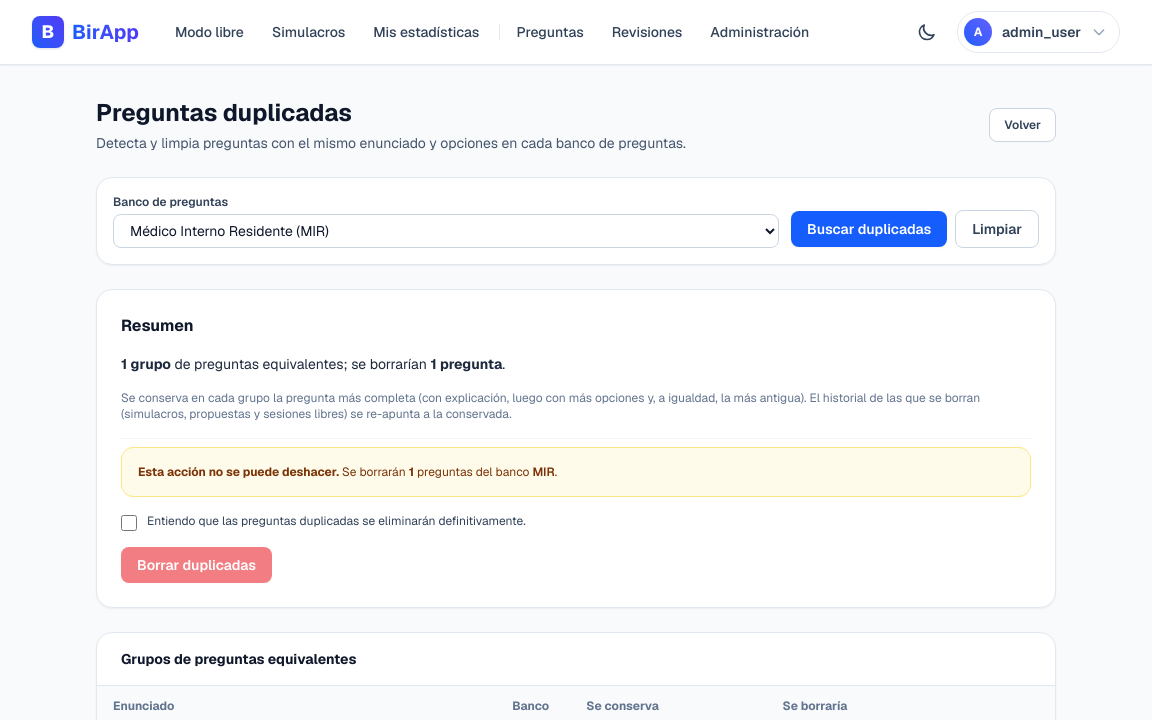
Scenario: QuestionDuplicatesPage (/questions/duplicates) › enables purge button on confirmation and purges duplicates
Click the checkbox labelled "Entiendo que las preguntas duplicadas se eliminarán definitivamente" at (129,523), box [121, 515, 137, 531]
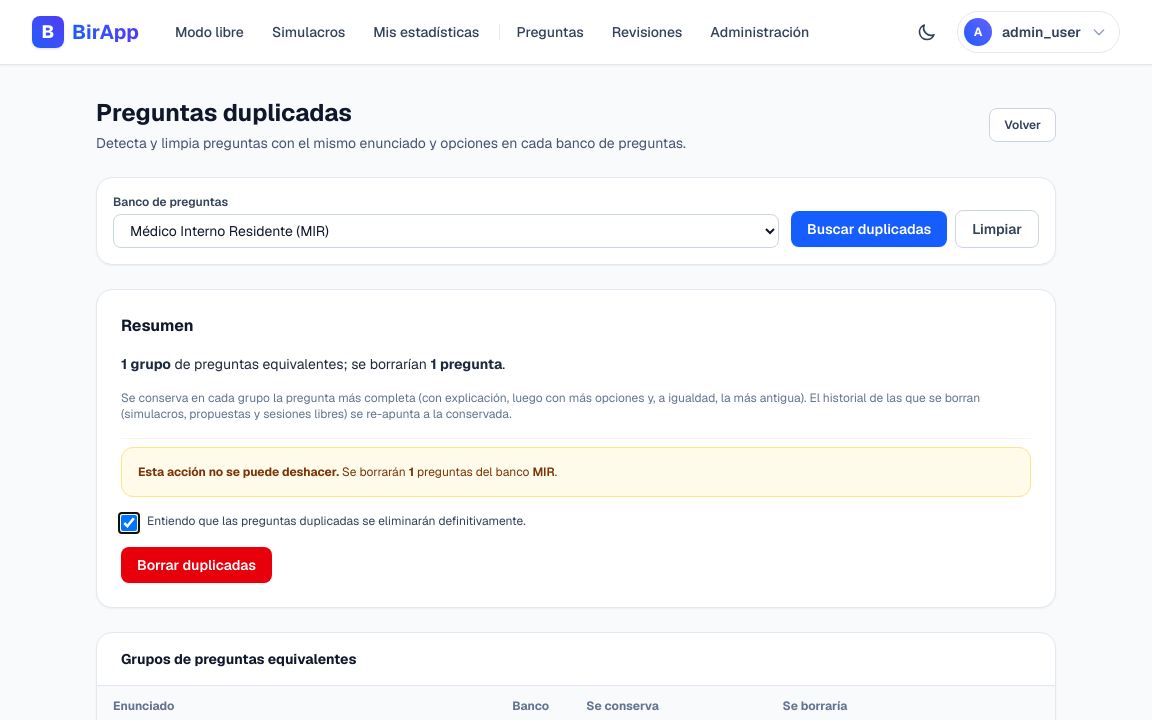
Expected: the checkbox labelled "Entiendo que las preguntas duplicadas se eliminarán definitivamente" is checked, [121, 515, 137, 531]
Expected: the button "Borrar duplicadas" is enabled
Click the button "Borrar duplicadas" at (197,565), box [121, 547, 272, 583]
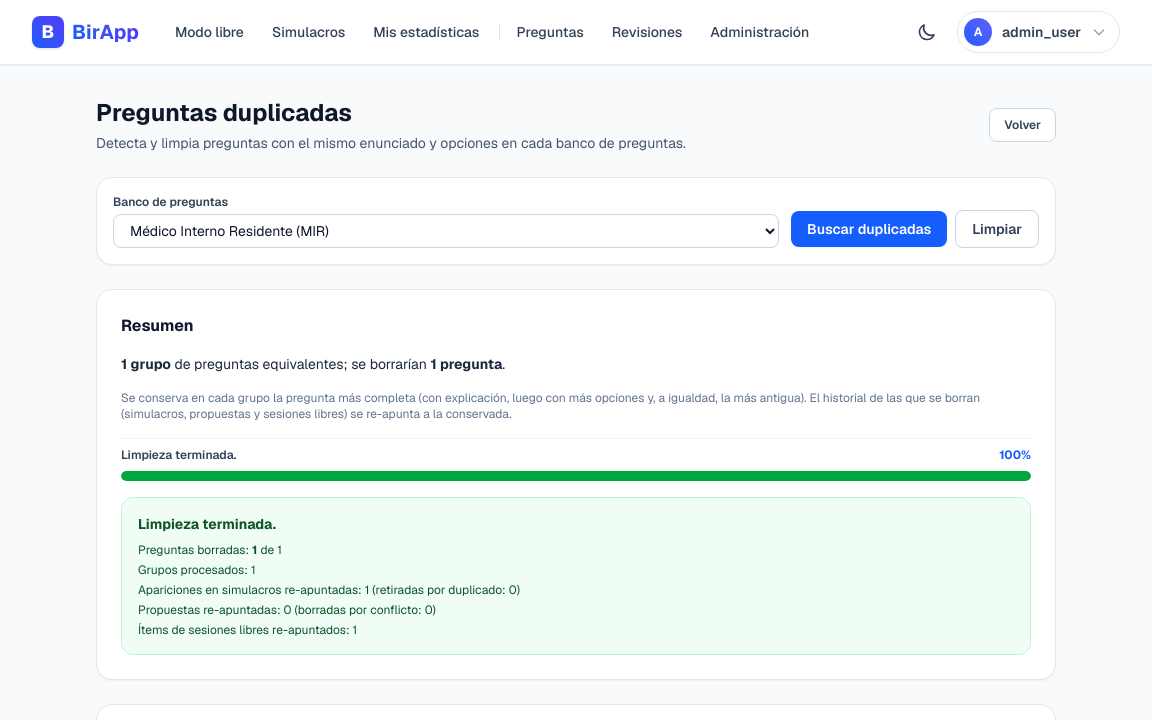
Expected: the list item "Preguntas borradas: 1 de 1" is shown, [138, 542, 282, 558]
